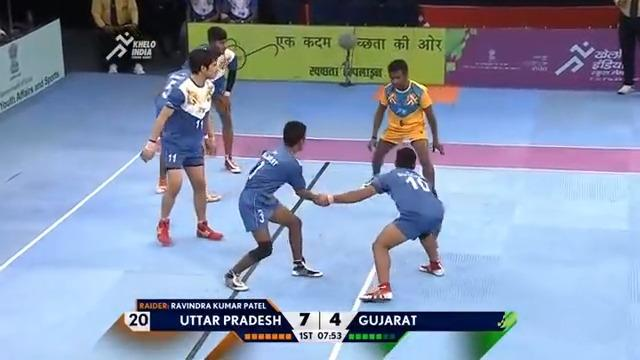Player: (314, 146, 446, 301), (223, 119, 329, 291), (140, 47, 224, 245), (154, 25, 241, 194), (202, 26, 241, 173)
Raider: (364, 58, 444, 197)
referee: (90, 0, 146, 74), (612, 0, 639, 95)
